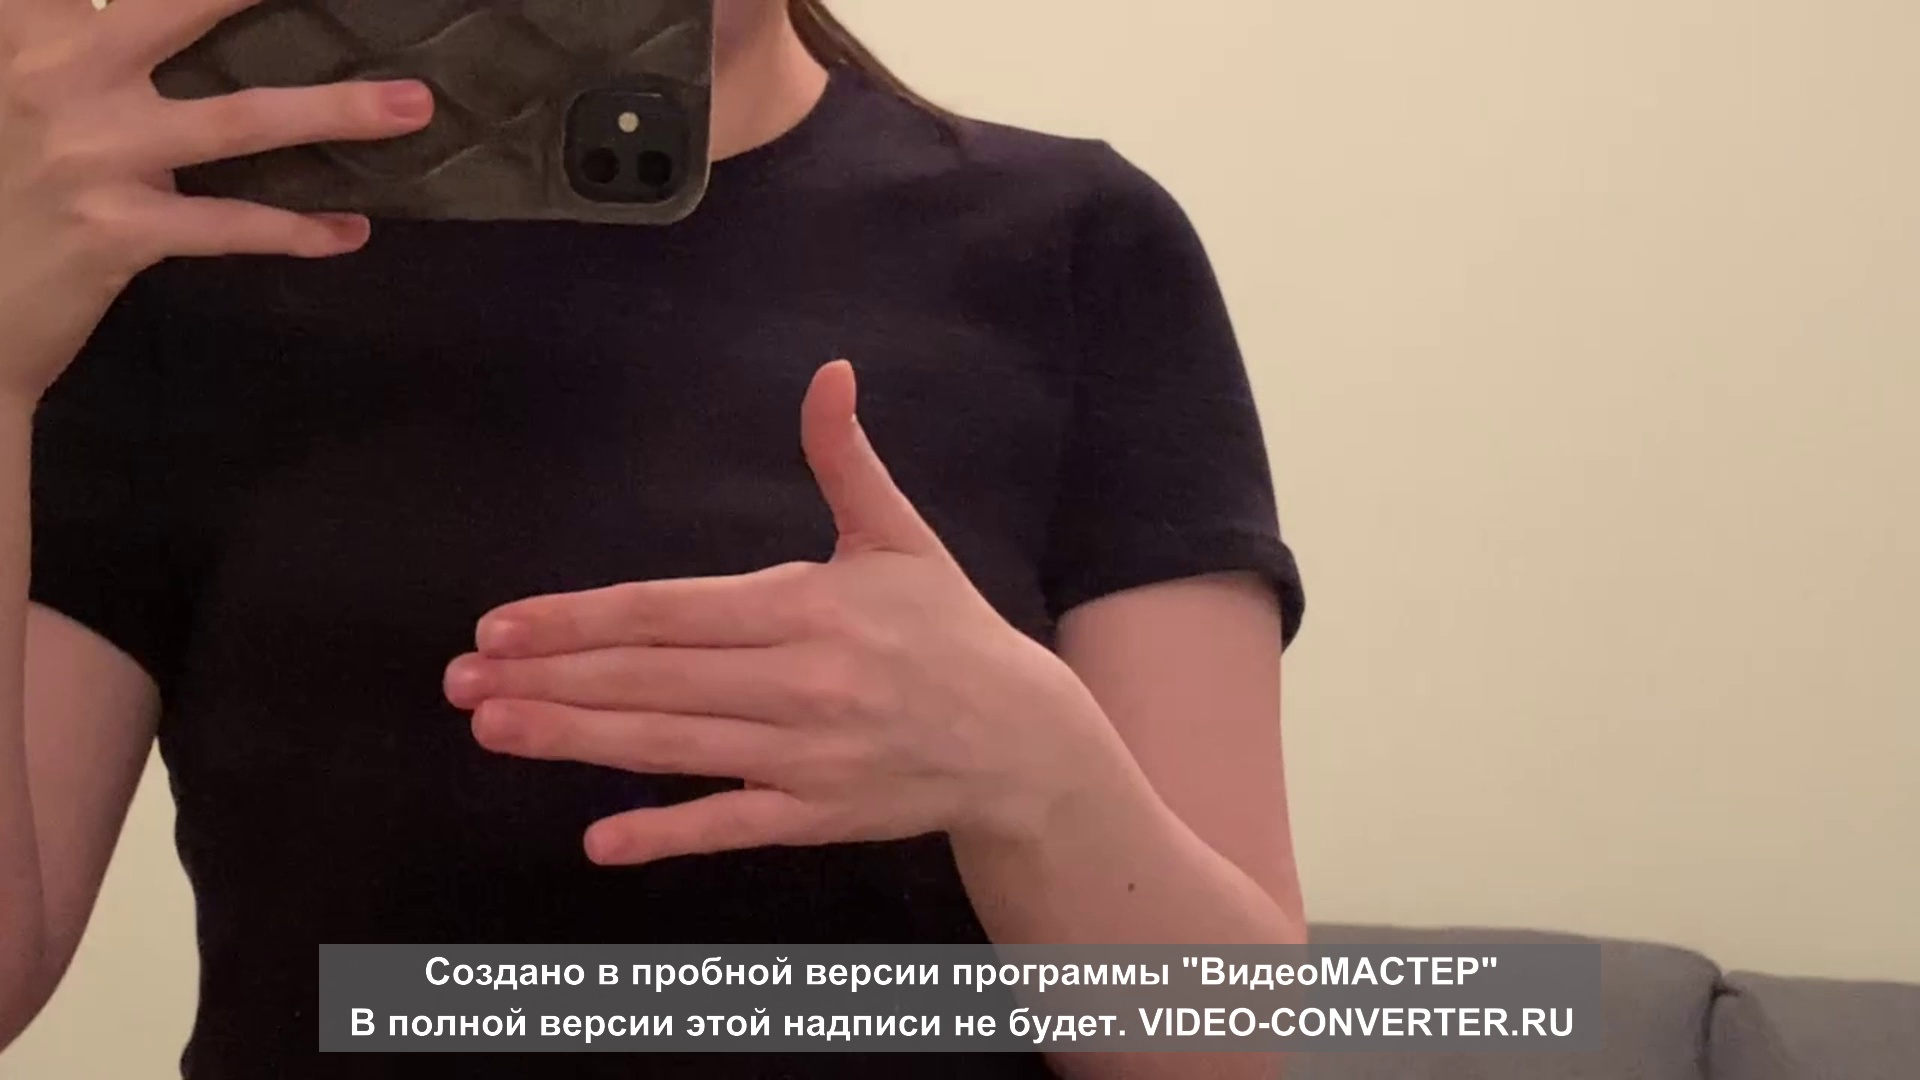Кисть: (447, 359, 990, 866)
